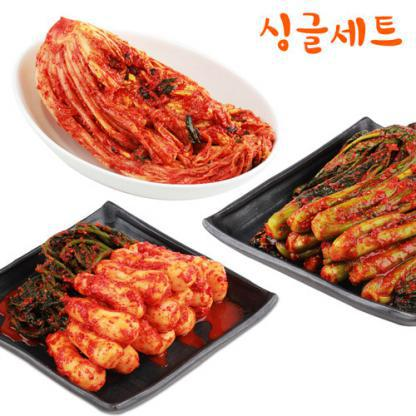kimchi: (28, 15, 268, 173)
